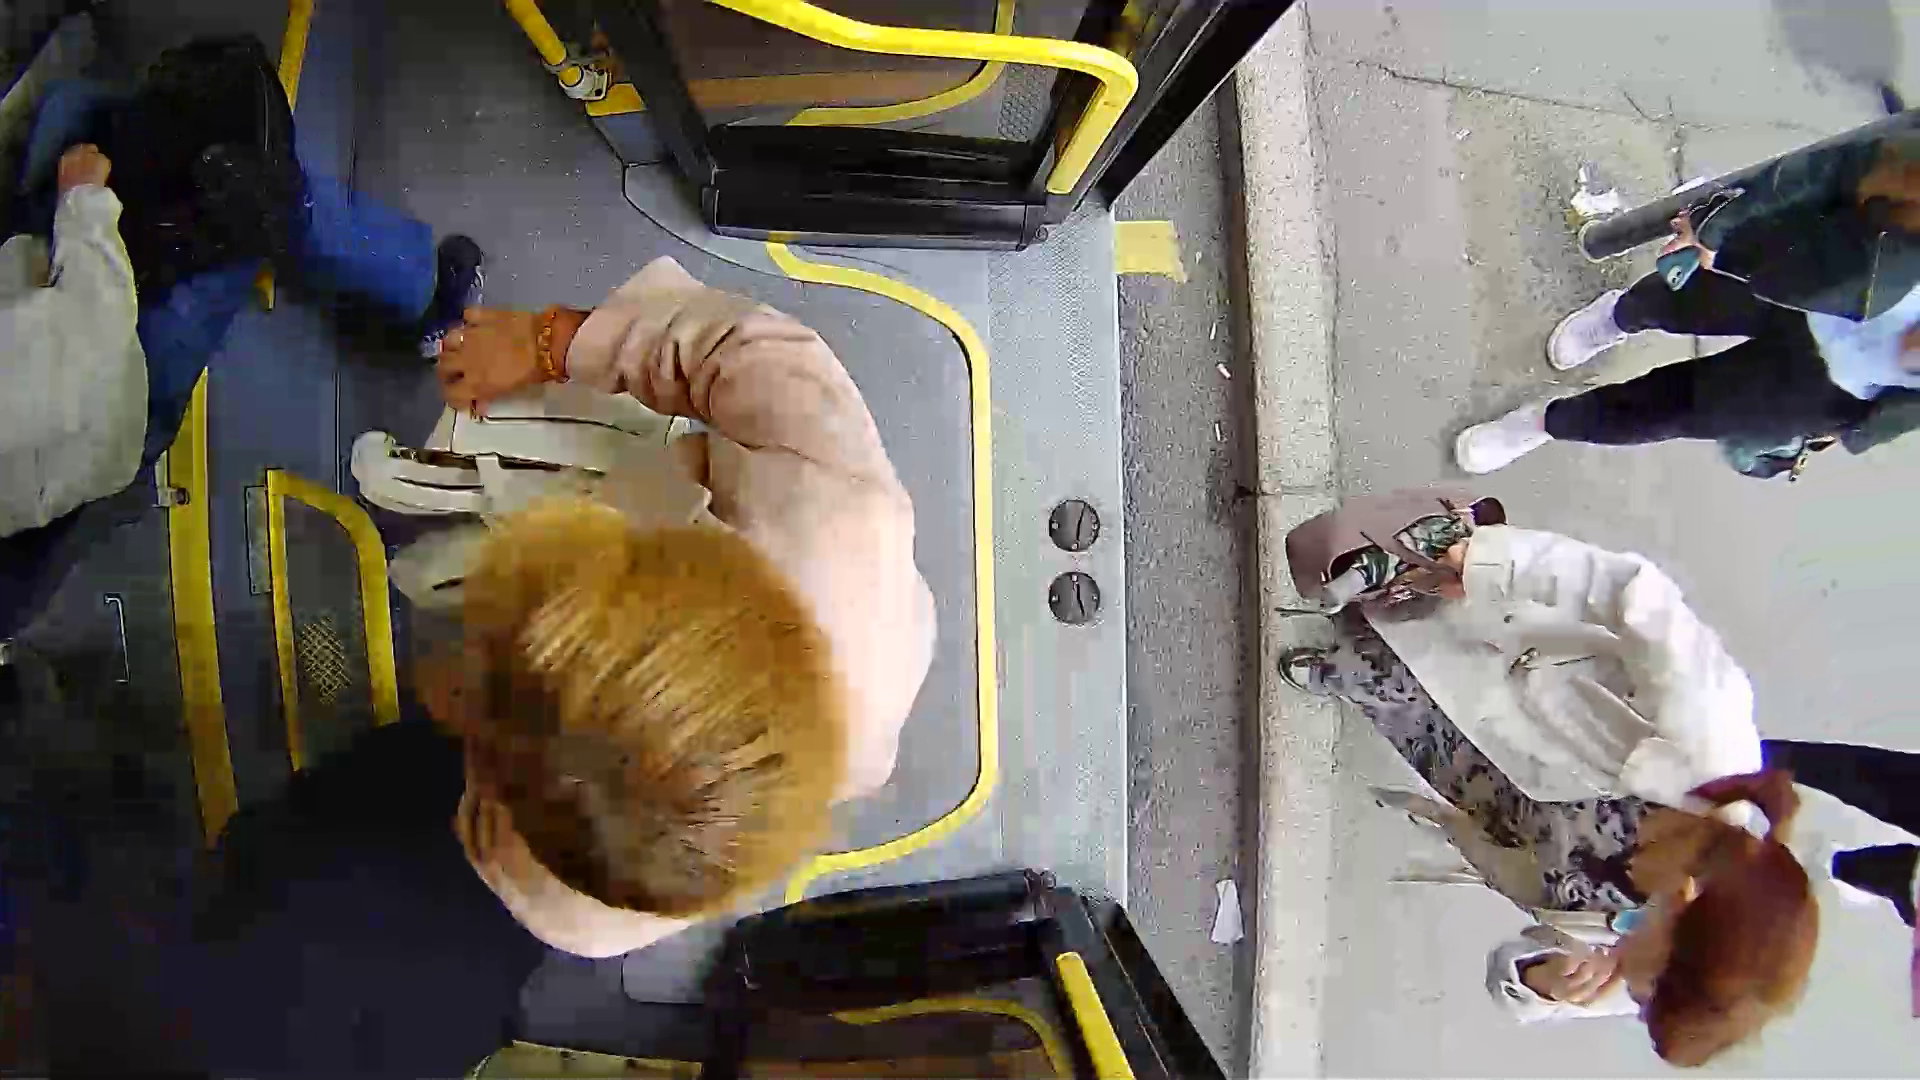person: (251, 250, 993, 977), (1263, 411, 1791, 1058)
